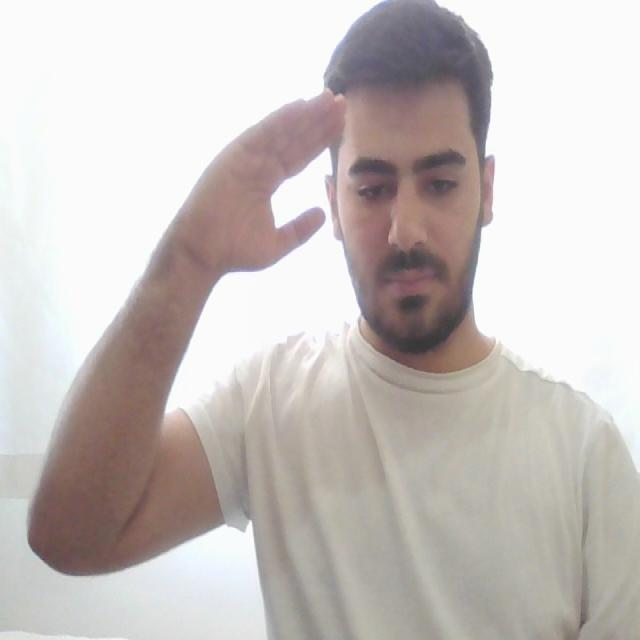Merhaba: (172, 46, 380, 318)
